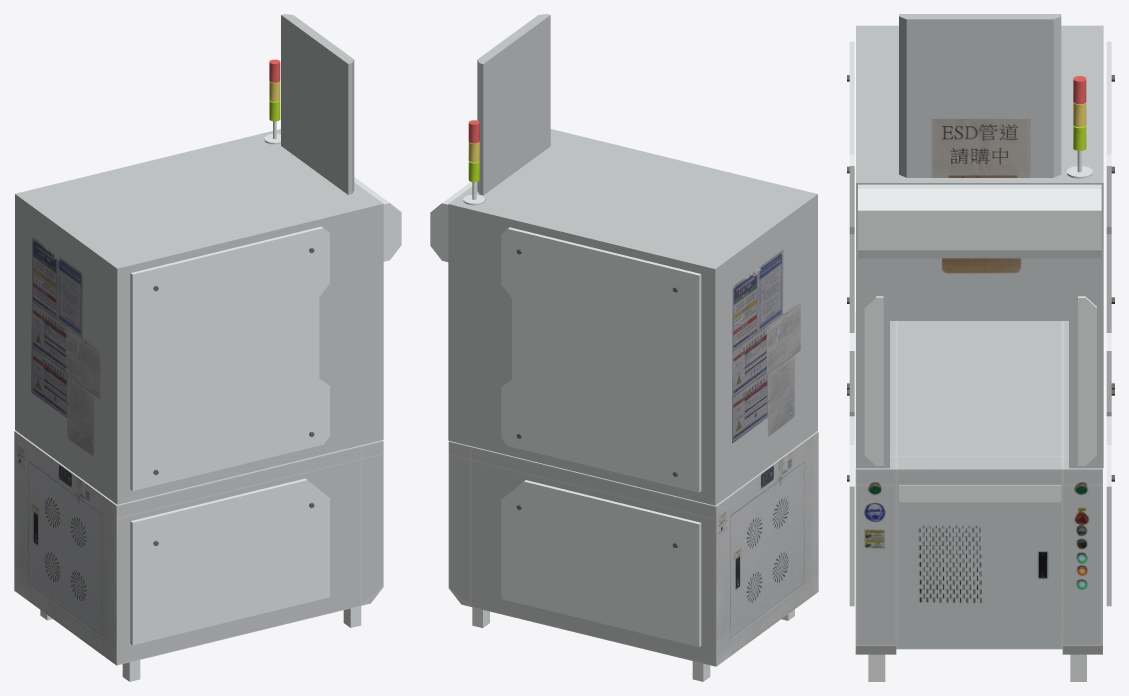
Rendered from marking.glb.
3 views of the same model, side by side, from view 1: azimuth 30°, elevation 25°; view 2: azimuth 150°, elevation 25°; view 3: azimuth 270°, elevation 25° (orthographic). The views are drawn at different scales.
Parts seen in each view (by area): view 1: 立方体.6, 立方体.12, 立方体, 立方体.13, 立方体.14, 立方体.7; view 2: 立方体.6, 立方体.11, 立方体, 立方体.10, 立方体.14, 立方体.7; view 3: 立方体, 立方体.6, 立方体.14, 立方体.7, 立方体.9, 立方体.8, 立方体.5, 立方体.12, 立方体.11, 立方体.13, 立方体.10, 立方体.2 (+1 smaller).
Boxes of the visible parts, box(x1,y1,x2,y2) form: 立方体.6: box(15, 129, 383, 504); 立方体.12: box(130, 226, 329, 491); 立方体: box(14, 431, 383, 665); 立方体.13: box(130, 478, 329, 645); 立方体.14: box(281, 14, 354, 194); 立方体.7: box(354, 177, 401, 261); 立方体.6: box(448, 129, 817, 505); 立方体.11: box(501, 227, 701, 492); 立方体: box(448, 431, 818, 666); 立方体.10: box(501, 480, 701, 646); 立方体.14: box(477, 14, 550, 195); 立方体.7: box(430, 182, 477, 261); 立方体: box(855, 312, 1102, 654); 立方体.6: box(856, 25, 1103, 468); 立方体.14: box(899, 14, 1061, 177); 立方体.7: box(858, 184, 1101, 258); 立方体.9: box(864, 296, 883, 465); 立方体.8: box(1078, 296, 1096, 465); 立方体.5: box(899, 485, 1061, 502); 立方体.12: box(849, 41, 854, 416); 立方体.11: box(1106, 41, 1111, 416); 立方体.13: box(849, 416, 854, 606); 立方体.10: box(1106, 416, 1111, 606); 立方体.2: box(868, 654, 885, 681).
Bounding box in the file's own units: 54.74 × 101 × 36.74.
8 materials, 3 textured.
